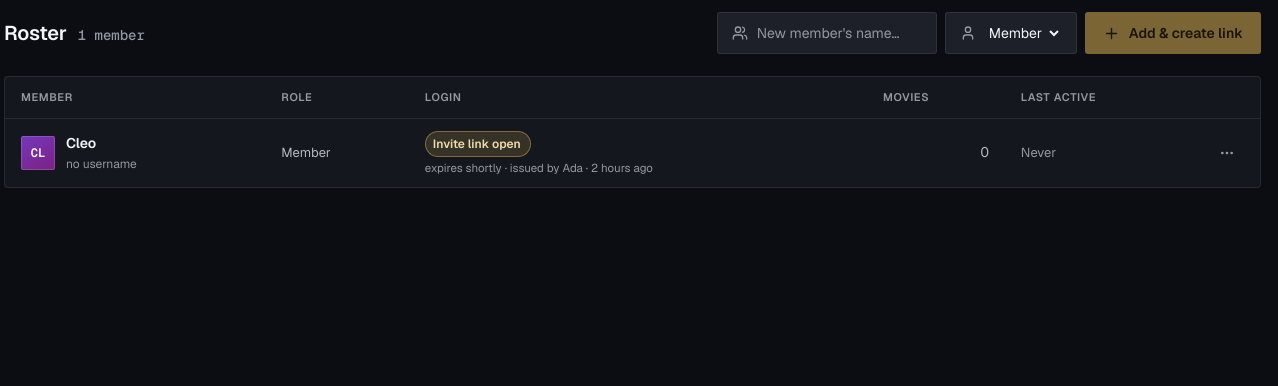
Test: invite state inside the roster › ticks at expiry, reconciles both views, and keeps menu focus inside
Click the button named "Actions for Cleo" at (1227, 153), box [1210,136,1244,170]
Wait 2025 ms
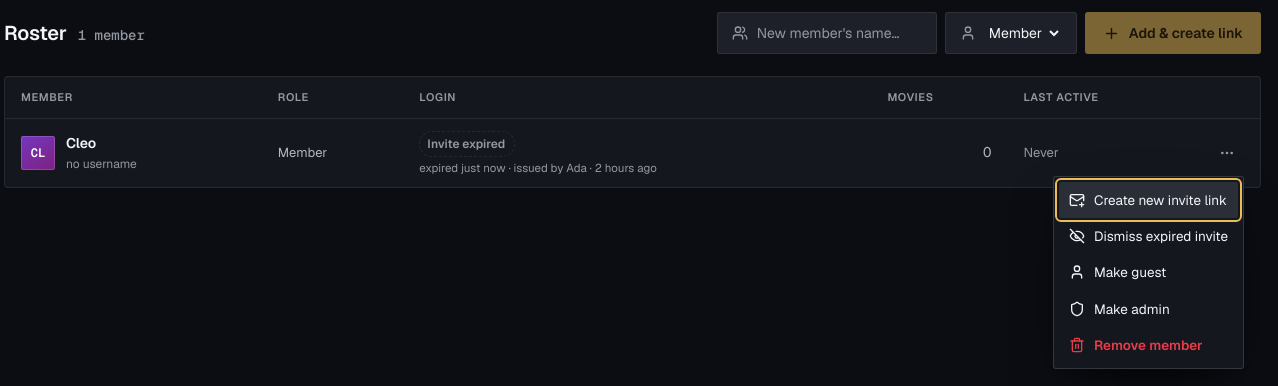
Result: the text "Invite expired" is shown at [419,130,515,156]
